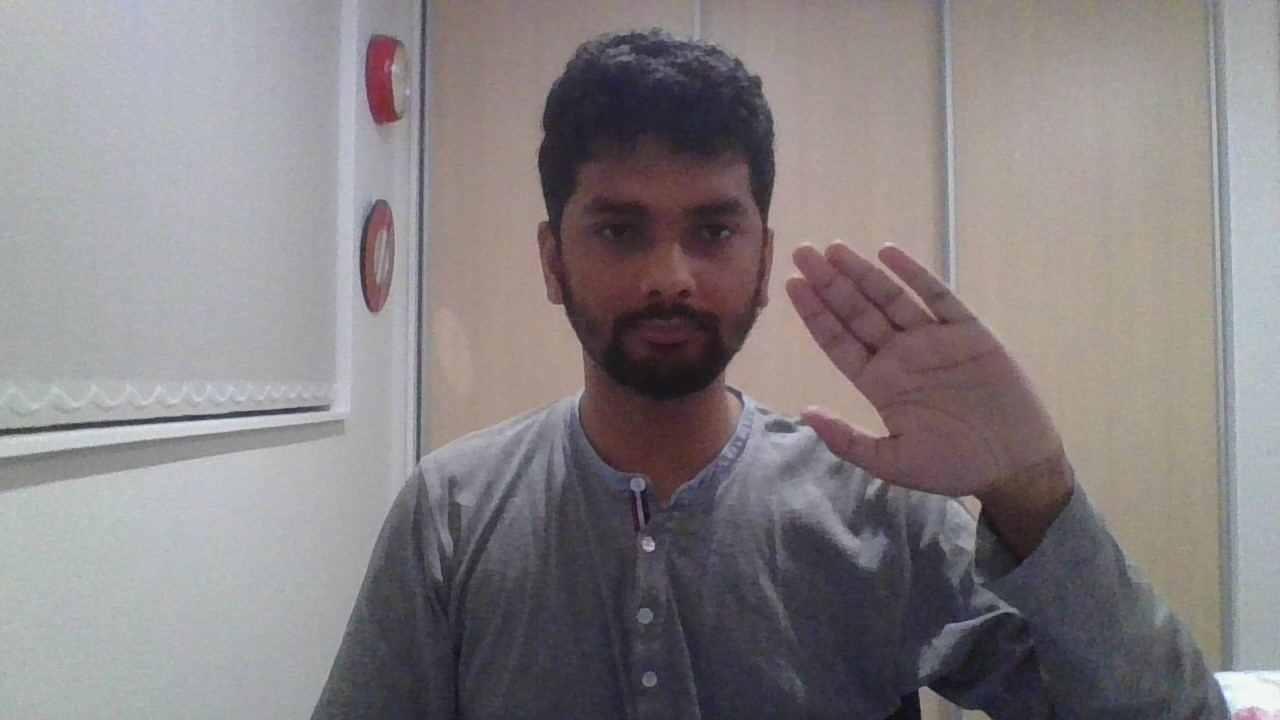hello: (785, 241, 1064, 496)
